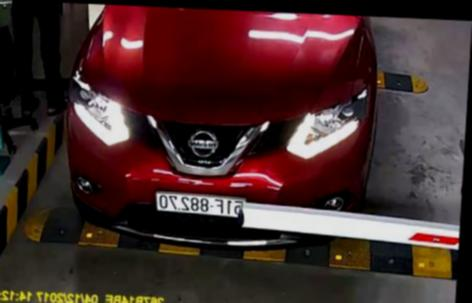License_Plate: (154, 191, 247, 218)
